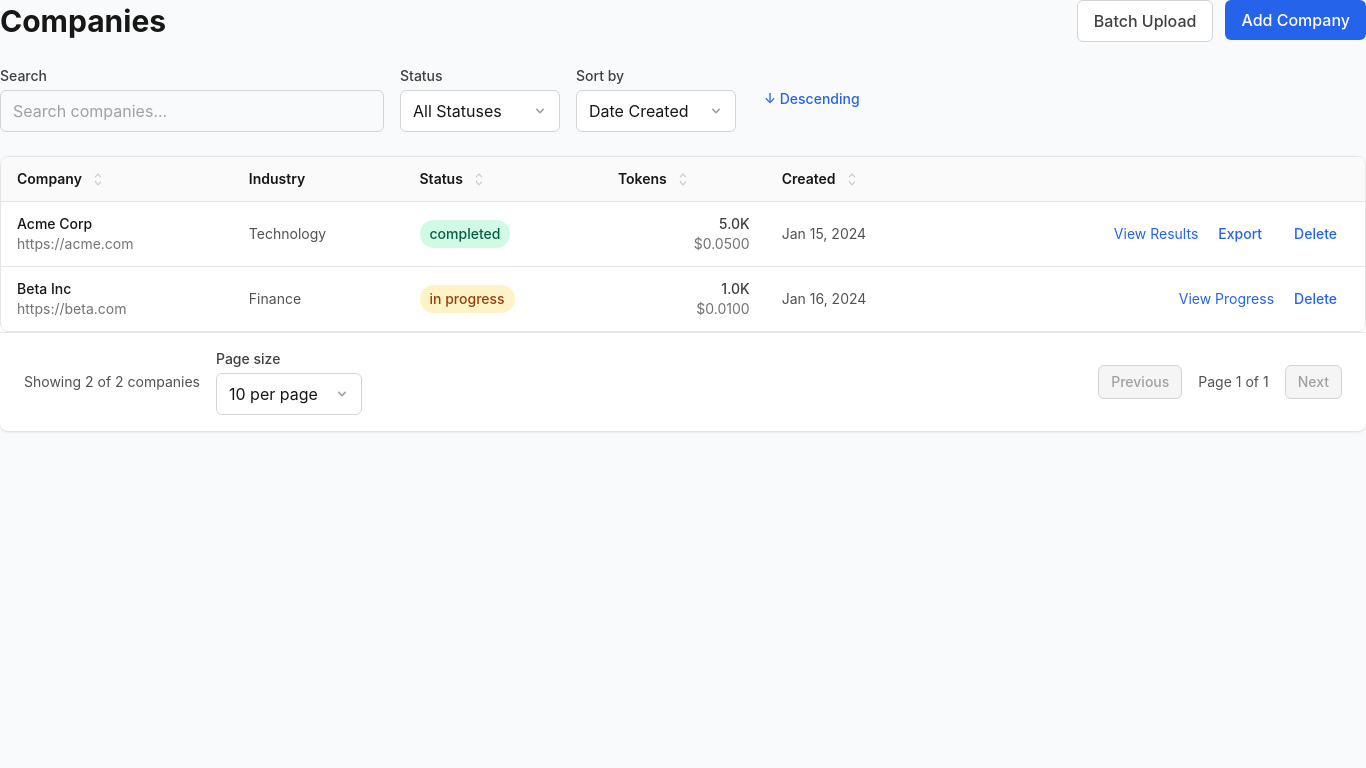
Test: Dashboard Actions › closes delete modal on cancel
Open delete modal
Click the button "Delete" in the row of "View Results" at (1316, 234), box [1282,218,1349,250]
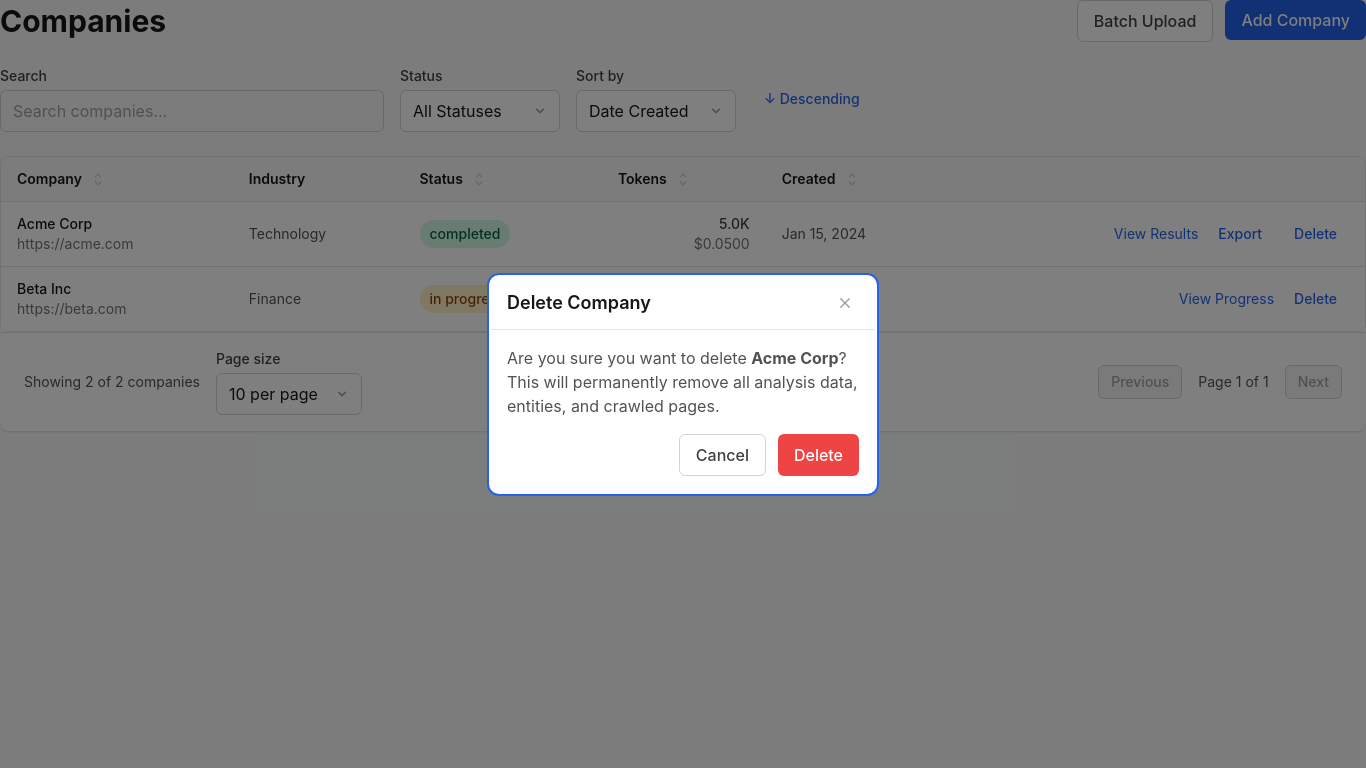
Click Cancel
Click the button "Cancel" at (722, 454), box [679,434,766,476]
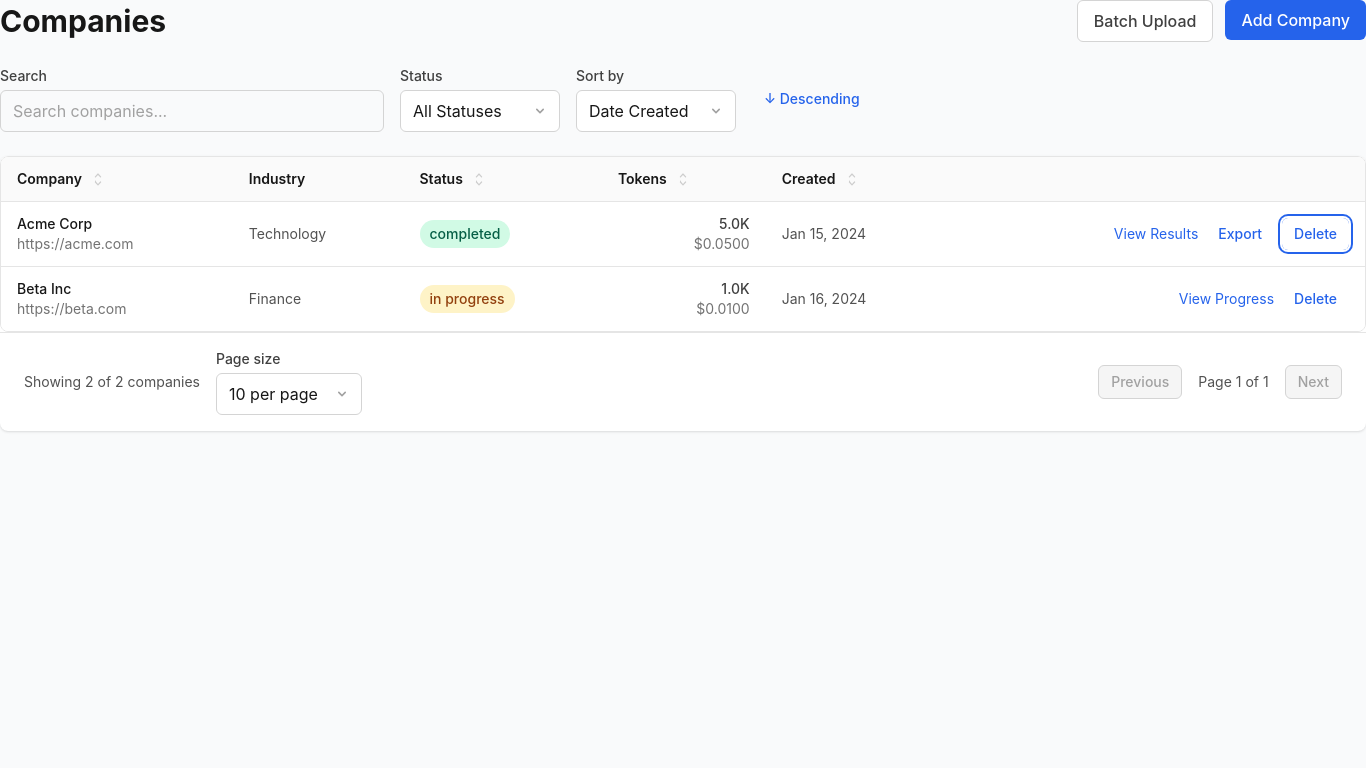
Check: the dialog is gone
